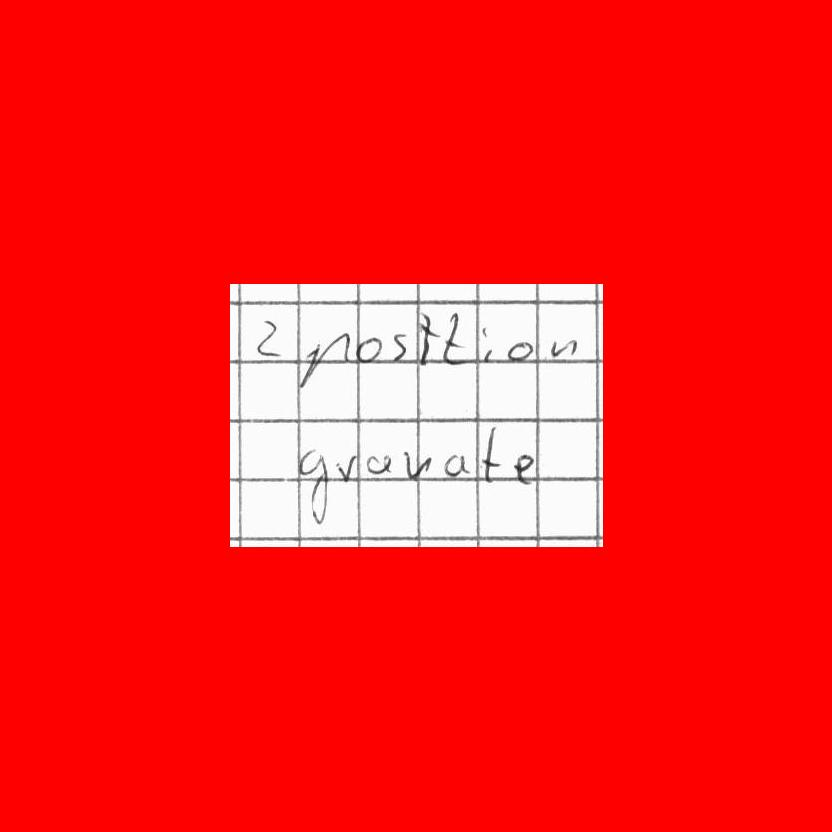Char: (295, 329, 352, 392), (293, 445, 332, 526), (440, 306, 471, 366), (252, 314, 288, 360), (478, 421, 502, 485), (415, 308, 441, 365), (402, 447, 437, 482), (473, 319, 498, 365), (510, 448, 535, 488), (352, 334, 385, 364), (441, 449, 472, 478), (546, 337, 581, 361), (334, 451, 359, 483), (363, 451, 392, 476), (390, 330, 411, 363), (505, 341, 534, 361)
